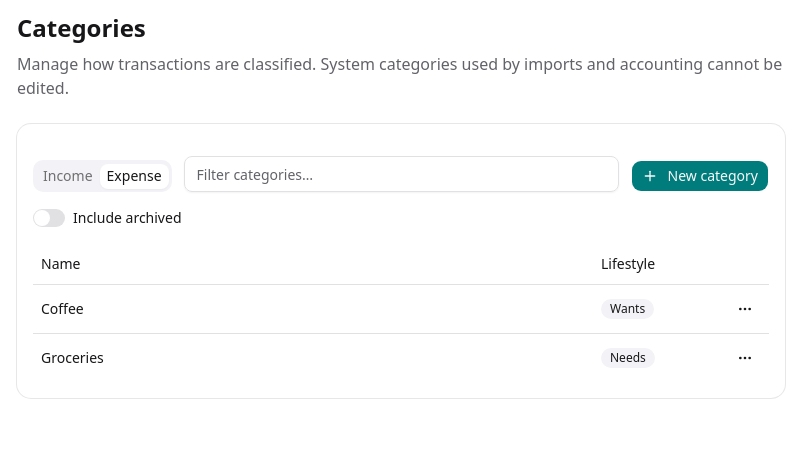
CategoriesLayout › Include archived toggle adds archived rows
This screenshot has width=803, height=465.
Expected: the text "Groceries" is shown, [41,348,104,368]
Expected: the text "Old" is not shown
What coordinates should you click on to do the following:
click the switch named "include archived"
I would click on:
 (49, 218)
Its box is [33,209,65,227].
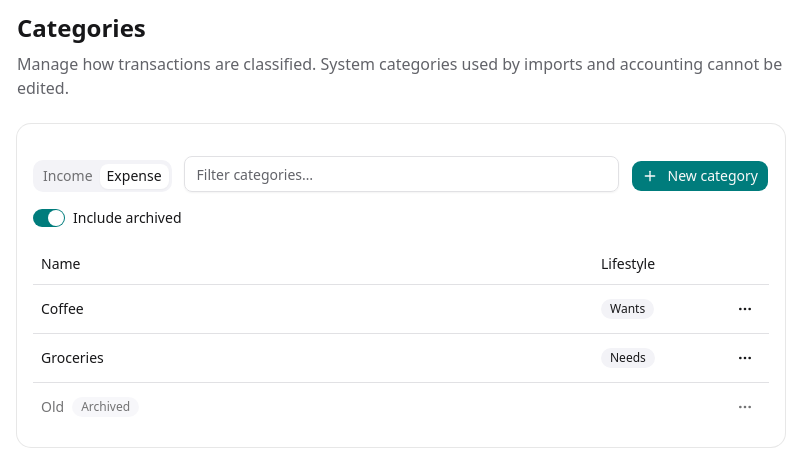
Expected: the text "Old" is shown, [41,396,64,416]
